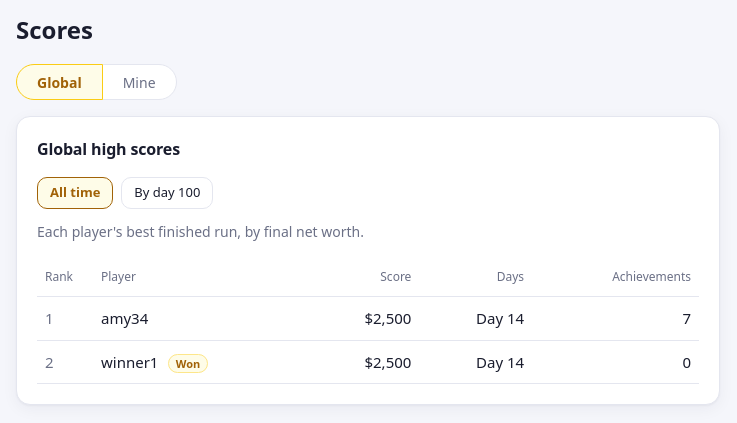
ScoresComponent day 100 board › goes back to all time without a board parameter
Click the button with class "board-100".
click(167, 193)  # box 121,177 -> 213,209
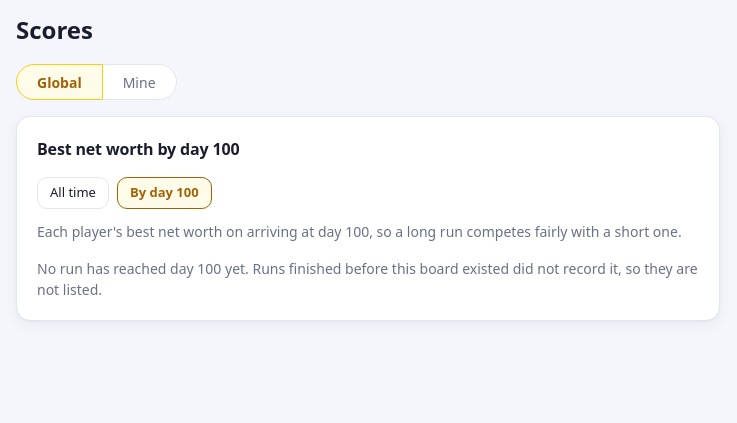
Click the button with class "board-all".
click(73, 193)  # box 37,177 -> 109,209
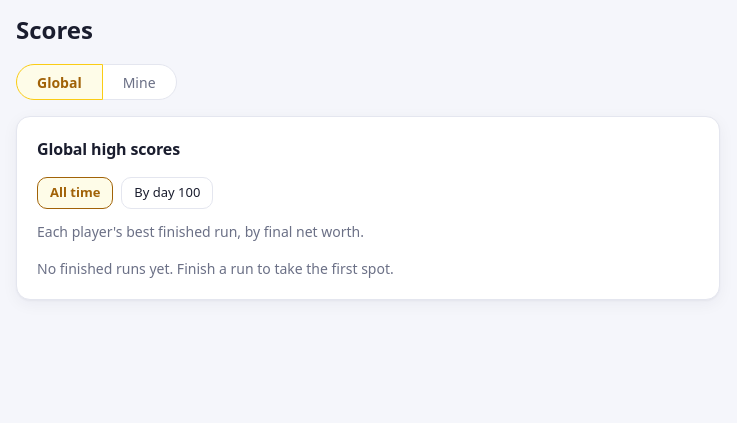
Expected: the text "Global high scores" is shown, 37,137 -> 180,161
